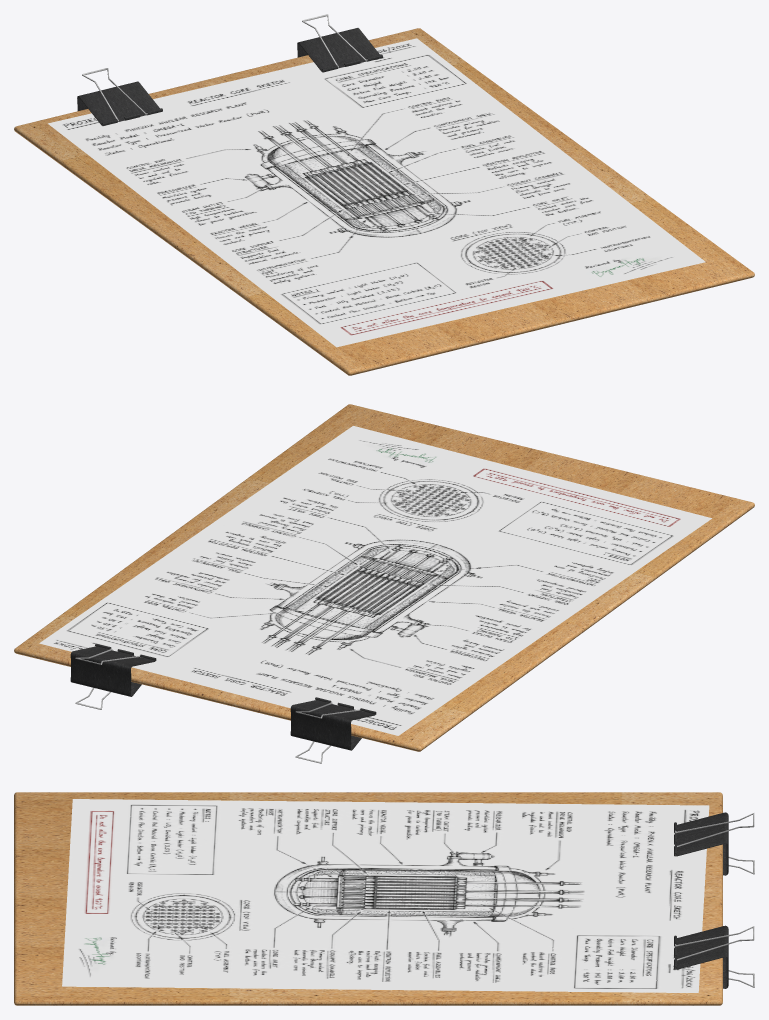
The model's file is CorePaperPad.fbx.
3 renders of one model, top to bottom at view 1: azimuth 30°, elevation 25°; view 2: azimuth 150°, elevation 25°; view 3: azimuth 270°, elevation 25°, orthographic. The views are drawn at different scales.
Visible parts, largest first — view 1: Paper, Pad, Clip2, Clip1; view 2: Paper, Pad, Clip1, Clip2; view 3: Paper, Pad, Clip1, Clip2.
Part boxes in pixels (x1=…): Paper: x1=48, y1=38, x2=705, y2=347; Pad: x1=14, y1=28, x2=754, y2=375; Clip2: x1=297, y1=28, x2=382, y2=72; Clip1: x1=77, y1=81, x2=162, y2=125; Paper: x1=39, y1=425, x2=711, y2=735; Pad: x1=14, y1=404, x2=754, y2=751; Clip1: x1=290, y1=697, x2=376, y2=750; Clip2: x1=70, y1=643, x2=156, y2=696; Paper: x1=62, y1=799, x2=709, y2=992; Pad: x1=14, y1=792, x2=722, y2=1005; Clip1: x1=674, y1=812, x2=728, y2=875; Clip2: x1=674, y1=925, x2=728, y2=988.
Bounding box in the file's own units: 33.97 × 3.66 × 50.71.
Materials: 4 (4 with a texture image).
